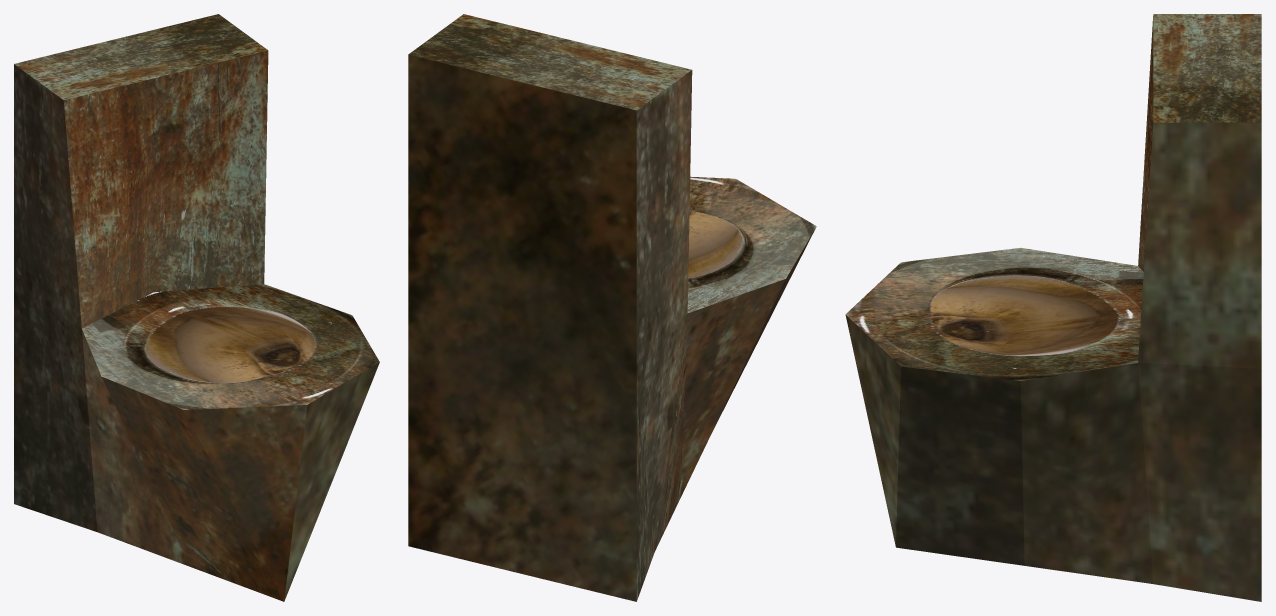
Rendered from wcsolja.glb.
3 views of the same model, side by side, from view 1: azimuth 30°, elevation 25°; view 2: azimuth 150°, elevation 25°; view 3: azimuth 270°, elevation 25° (orthographic). The views are drawn at different scales.
Visible parts, largest first — view 1: Cube; view 2: Cube; view 3: Cube.
Part boxes in pixels (x1=…): Cube: x1=14, y1=14, x2=379, y2=601; Cube: x1=408, y1=14, x2=816, y2=601; Cube: x1=845, y1=14, x2=1261, y2=601.
Size of the model in its own units: 2.45 by 4.11 by 3.23.
1 material, 1 textured.
